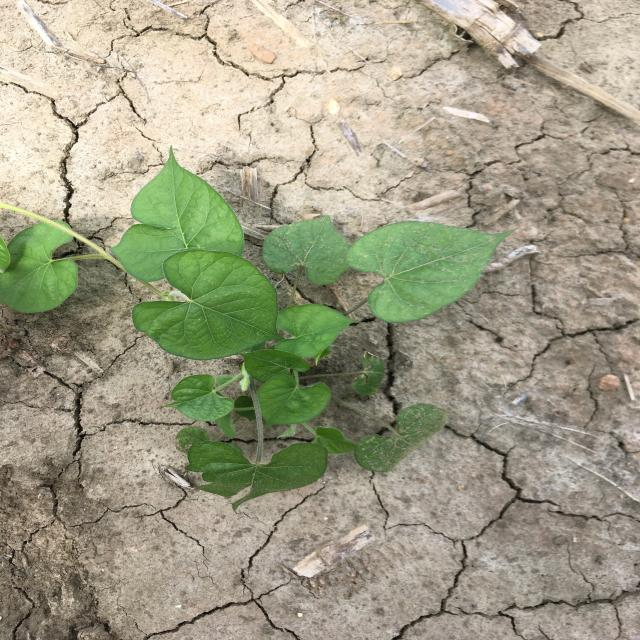MorningGlory: (0, 144, 516, 512)
